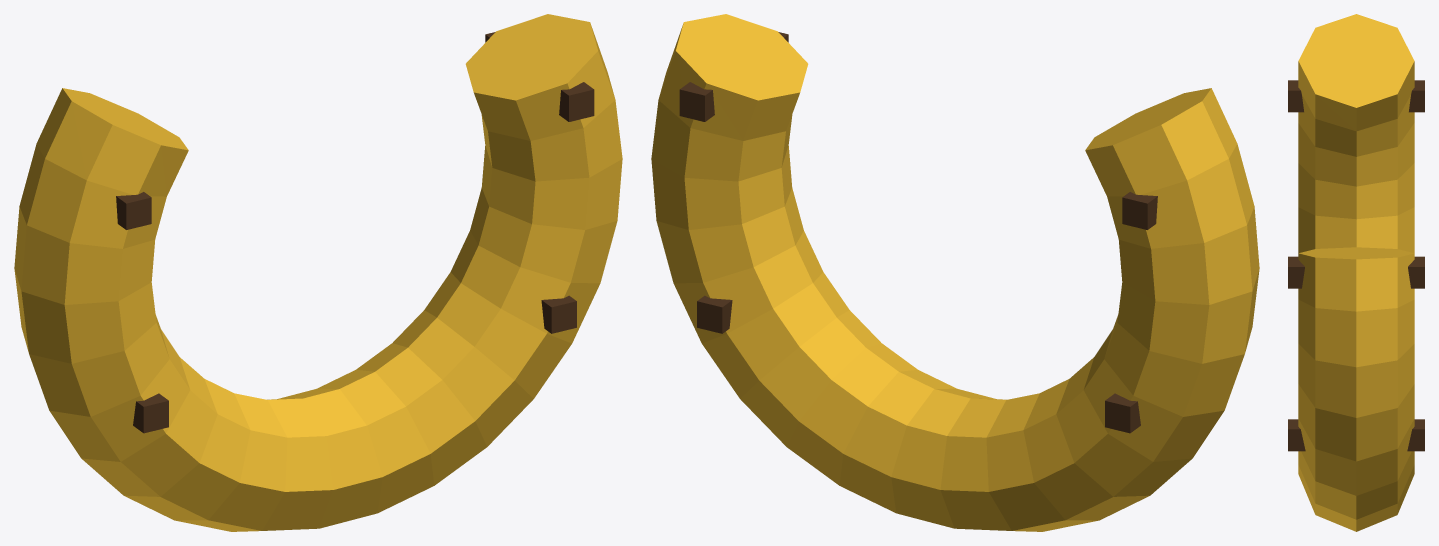
The model's file is GearLuckyCharm.obj.
3 renders of one model, left to right at view 1: azimuth 30°, elevation 25°; view 2: azimuth 150°, elevation 25°; view 3: azimuth 270°, elevation 25°, orthographic. The views are drawn at different scales.
Visible parts, largest first — view 1: GearLuckyCharm; view 2: GearLuckyCharm; view 3: GearLuckyCharm.
Boxes of the visible parts, box(x1,y1,x2,y2) form: GearLuckyCharm: box(14, 14, 622, 531); GearLuckyCharm: box(651, 14, 1259, 531); GearLuckyCharm: box(1288, 14, 1424, 531).
Bounding box in the file's own units: 0.328 × 0.2544 × 0.08.
